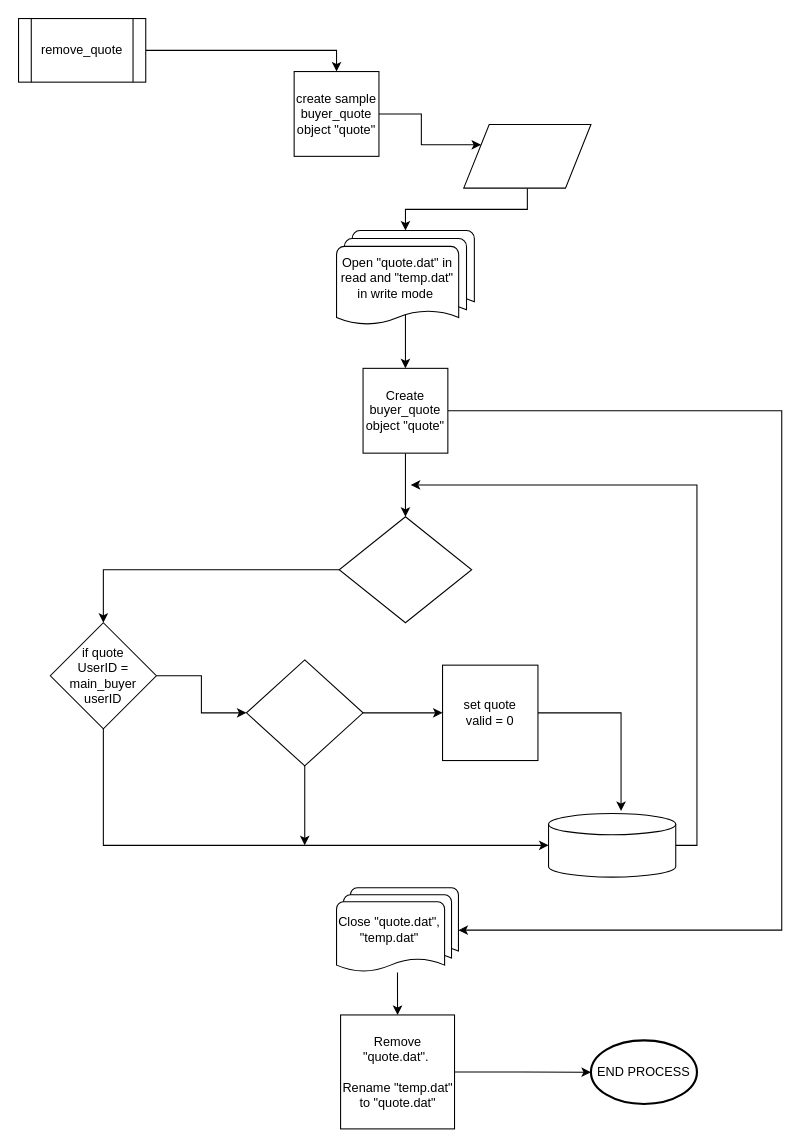
The diagram is 809 pixels wide and 1148 high, and some of its shapes have lost their labels. The shapes that lost their labels are listed below. From the top down, each one's box as (x1, y1, x2, y2) in pixels, then its label:
(463, 123, 591, 188): Request quote_no from user
(338, 516, 472, 623): Check if not at end of file of "quote.dat"
(245, 659, 363, 766): if quote ID = quote no. from user
(547, 812, 676, 877): write quote into "temp.dat"
